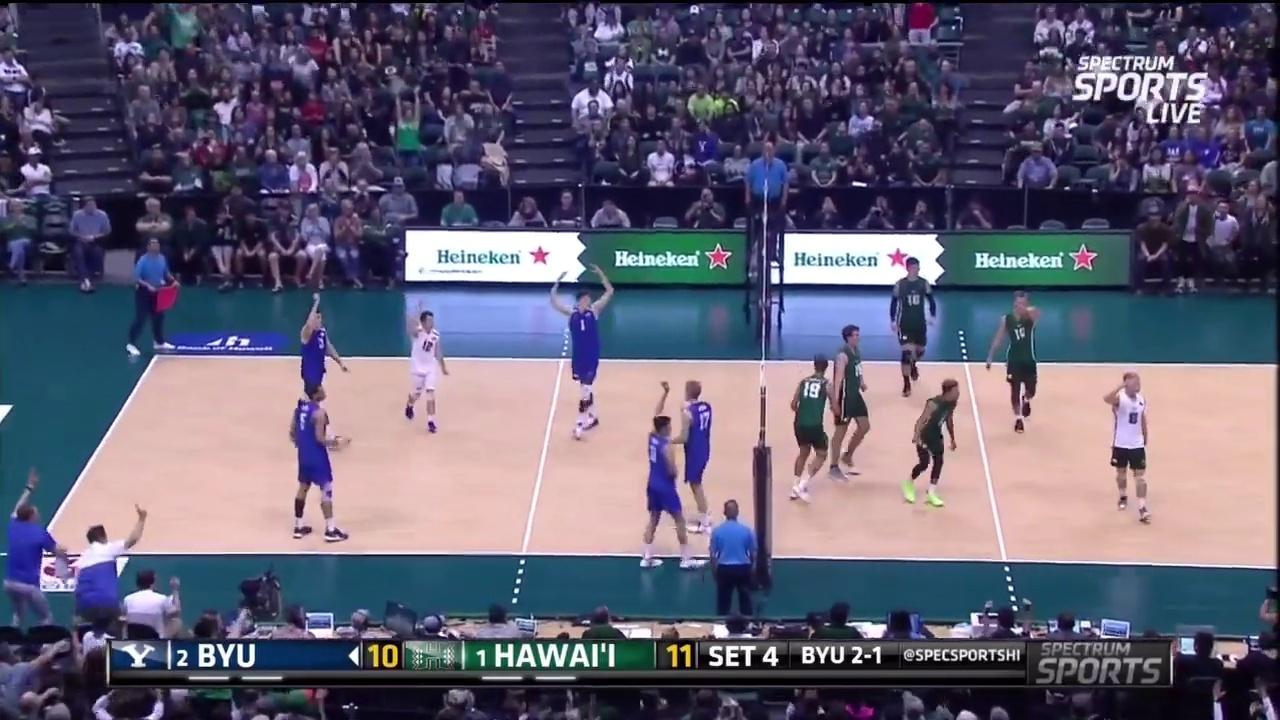player: (635, 411, 693, 573), (288, 380, 346, 536), (296, 294, 354, 442), (556, 267, 606, 438), (825, 330, 875, 481), (786, 354, 837, 499), (669, 381, 718, 527), (904, 382, 961, 506), (986, 294, 1038, 428), (890, 256, 939, 395), (1107, 377, 1153, 520), (128, 235, 179, 359), (408, 313, 450, 430)
refree: (708, 497, 763, 614), (746, 140, 790, 255)
